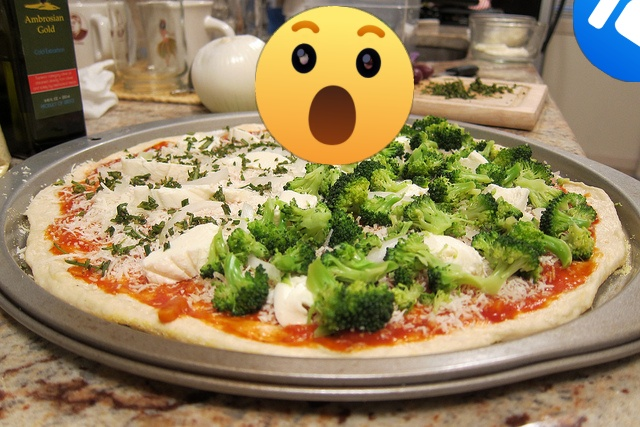like: (573, 0, 640, 82)
wow: (255, 6, 414, 165)
